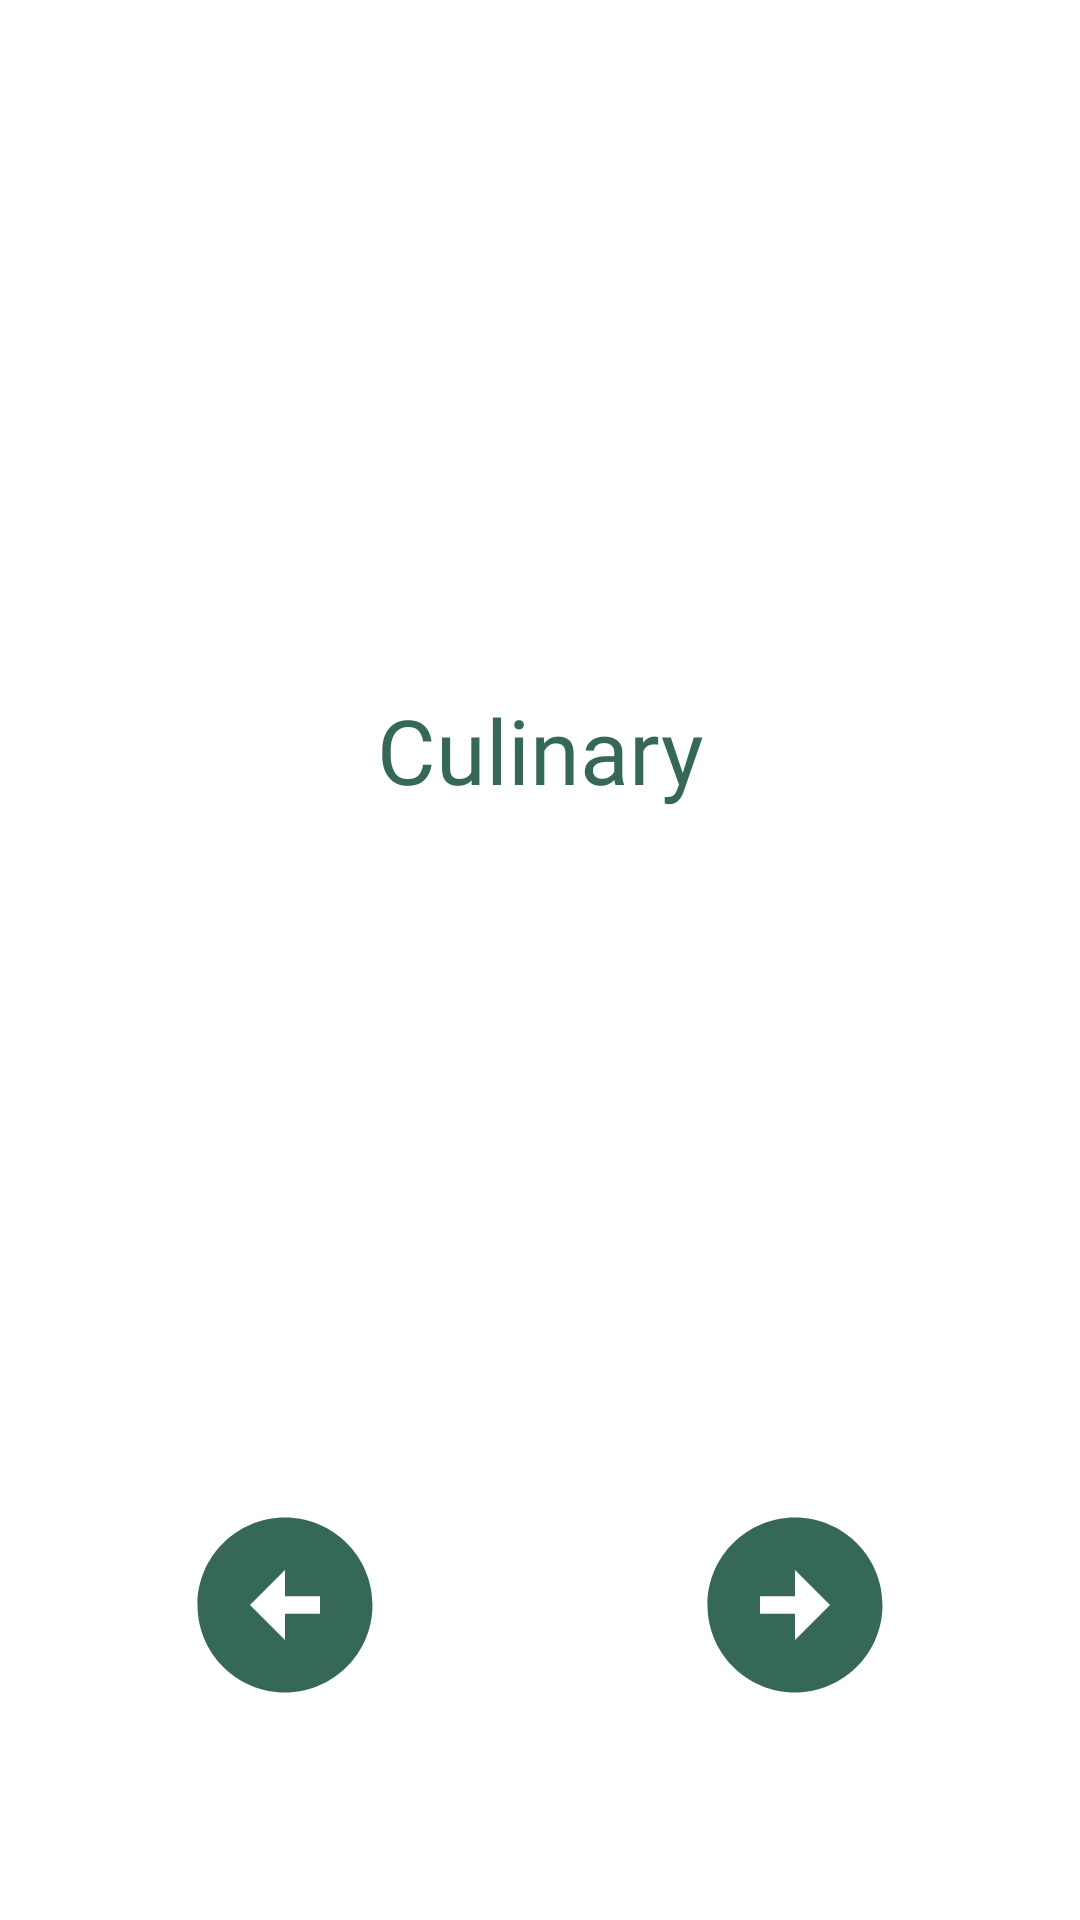

Screen size 1080 x 1920. Icon name, then its box in pixels as (x1=x1, y1=y1, x2=x2, y2=y2):
arrow left: (x1=197, y1=1517, x2=373, y2=1693)
arrow right: (x1=707, y1=1517, x2=883, y2=1693)
